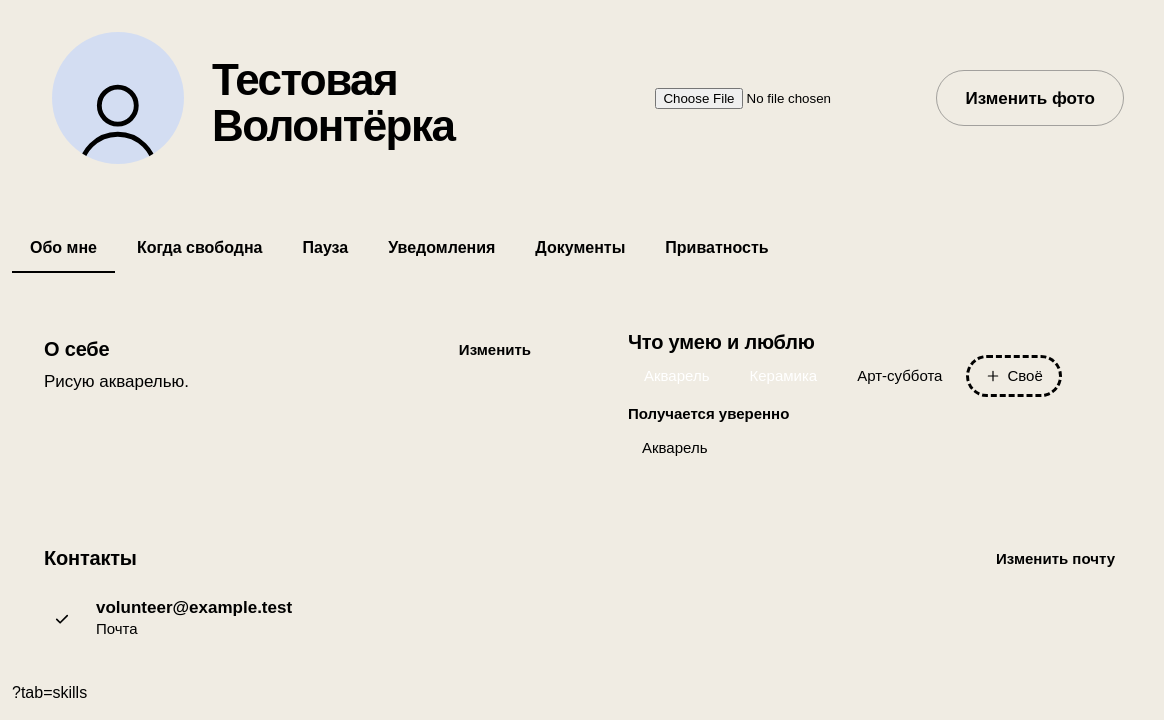
it: keeps skills and interests as picks and saves them with the profile
expect the text "Рисую акварелью." is shown: met, box [44,372,189,391]
expect the button "Сохранить" is not shown: met
Click the button "Арт-суббота".
click(900, 376)  # box [841,355,958,397]
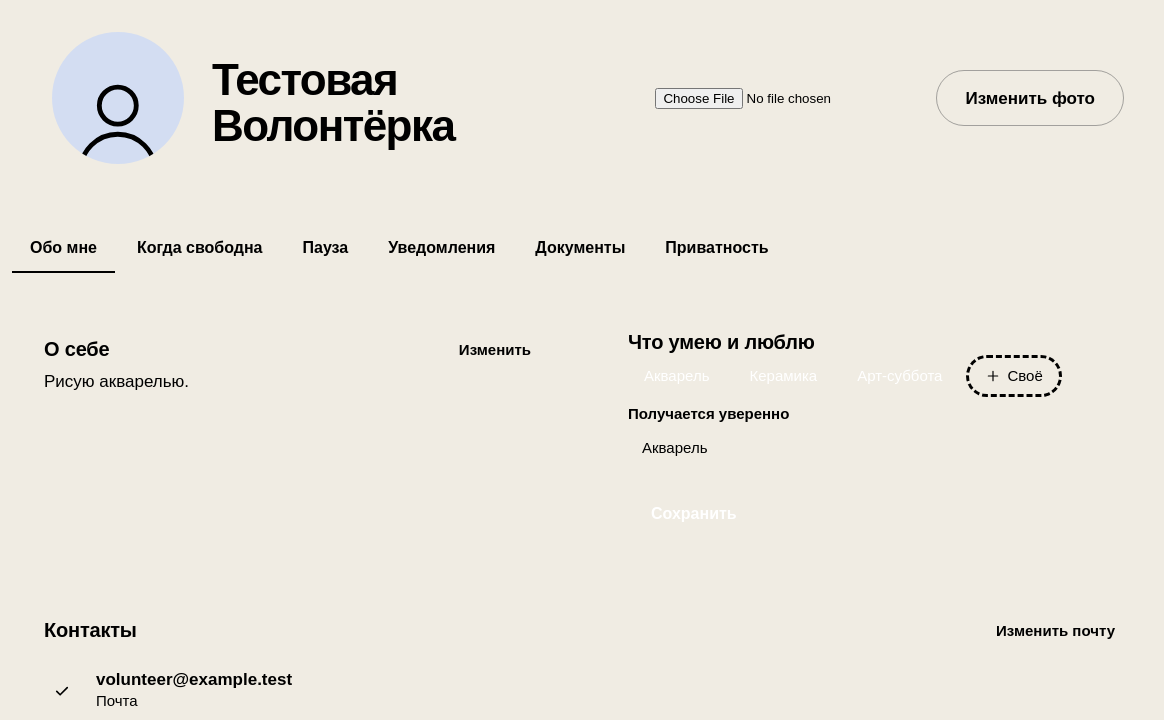
Click the button "Керамика".
click(783, 376)  # box [734,355,833,397]
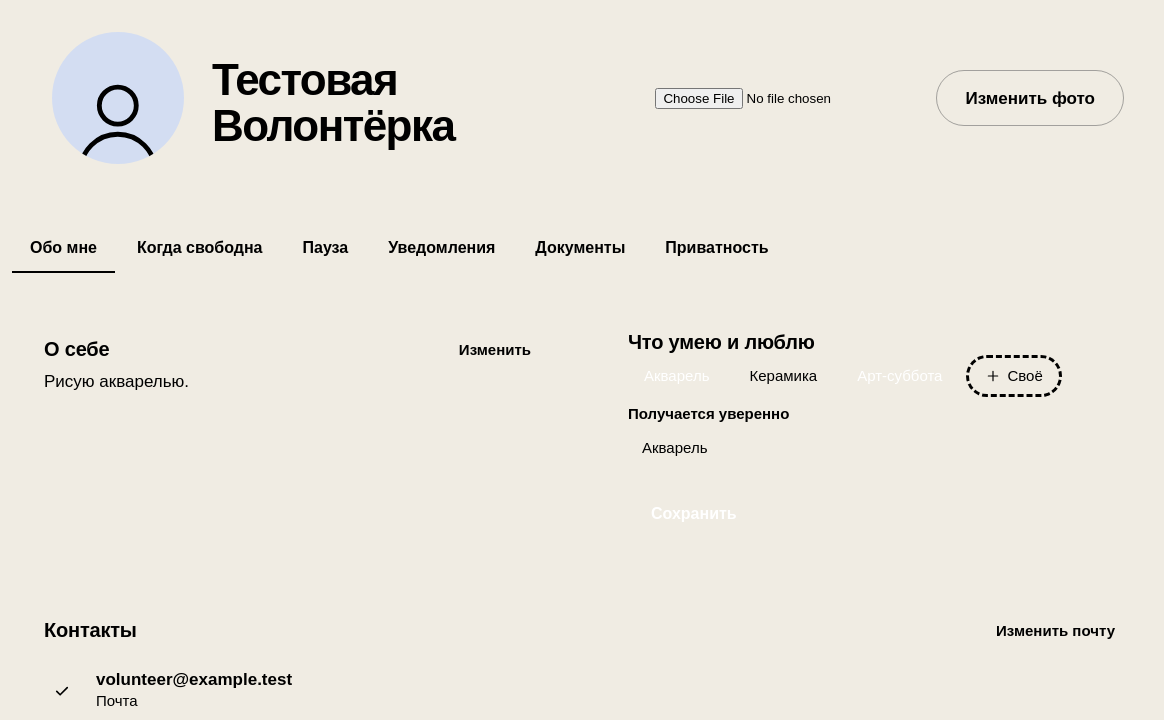
Click the button "Акварель" below "Получается уверенно".
click(675, 448)  # box [628,430,722,466]
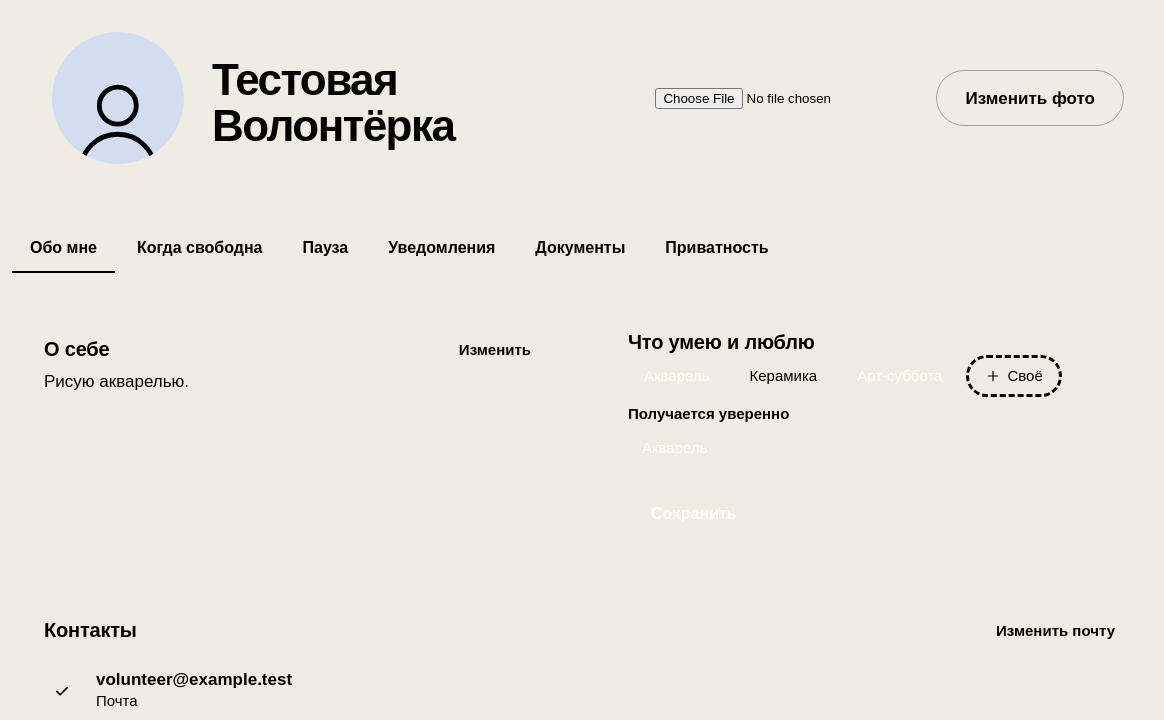
Click the button "Сохранить".
click(694, 514)  # box [628,490,760,538]
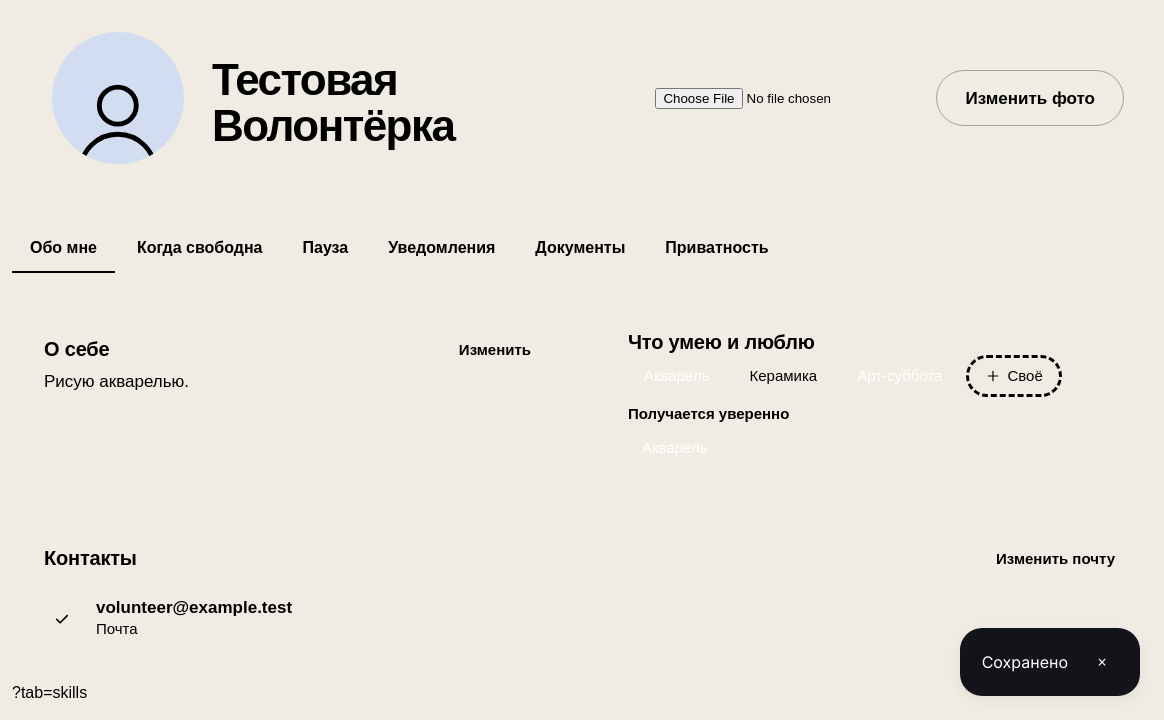
expect the text "Сохранено" is shown: met, box [982,650,1068,674]
